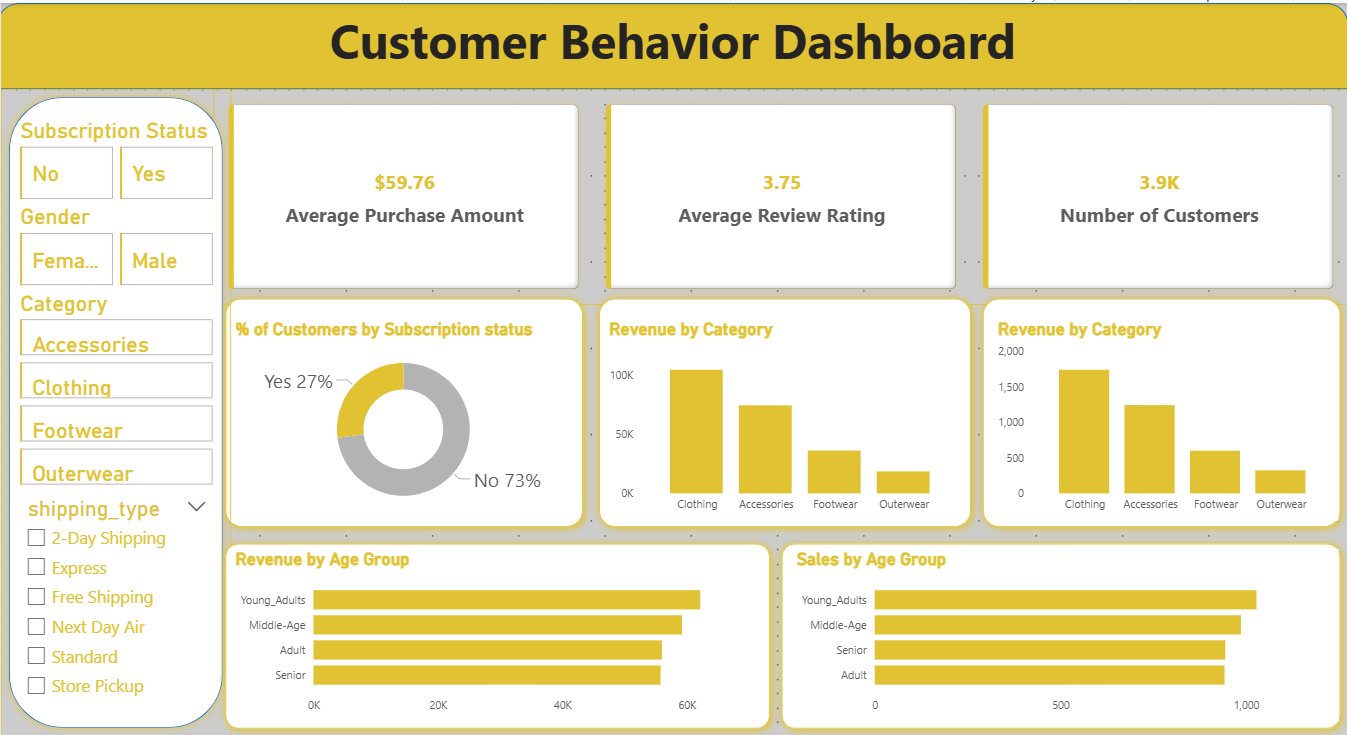

The page's visual inventory and layout, read from the dashboard file:
{"tool":"powerbi","page":{"name":"Page 1","canvas":[1500,820],"ordinal":0},"visuals":[{"type":"cardVisual","fields":{"Data":["public customer.Average Purchase Amount","public customer.Average Review Rating","public customer.Number of Customers"]},"box":[236,96,1264,240],"z":0},{"type":"shape","box":[-4,0,1504,96],"z":1000},{"type":"textbox","box":[-4,0,1504,96],"z":2000},{"type":"shape","box":[240,320,416,272],"z":3000},{"type":"donutChart","title":"% of Customers by Subscription status","fields":{"Category":["public customer.subscription_status"],"Y":["CountNonNull(public customer.customer_id)"]},"box":[256,352,384,224],"z":4000},{"type":"shape","box":[656,320,432,272],"z":5000},{"type":"shape","box":[1084,320,416,272],"z":6000},{"type":"clusteredColumnChart","title":"Revenue by Category","fields":{"Y":["Sum(public customer.purchase_amount)"],"Category":["public customer.category"]},"box":[672,352,400,224],"z":7000},{"type":"clusteredColumnChart","title":"Revenue by Category","fields":{"Y":["CountNonNull(public customer.customer_id)"],"Category":["public customer.category"]},"box":[1104,352,384,224],"z":8000},{"type":"shape","box":[0,96,256,720],"z":9000},{"type":"advancedSlicerVisual","title":"Subscription Status","fields":{"Values":["public customer.subscription_status"]},"box":[16,128,224,96],"z":10000},{"type":"advancedSlicerVisual","title":"Gender","fields":{"Values":["public customer.gender"]},"box":[16,224,224,96],"z":11000},{"type":"advancedSlicerVisual","title":"Category","fields":{"Values":["public customer.category"]},"box":[16,320,224,224],"z":12000},{"type":"slicer","title":"Shopping Type","fields":{"Values":["public customer.shipping_type"]},"box":[16,544,224,272],"z":13000},{"type":"shape","box":[240,592,624,224],"z":14000},{"type":"clusteredBarChart","title":"Revenue by Age Group","fields":{"Category":["public customer.age_group"],"Y":["Sum(public customer.purchase_amount)"]},"box":[256,608,592,192],"z":15000},{"type":"shape","box":[860,592,640,224],"z":16000},{"type":"clusteredBarChart","title":"Sales by Age Group","fields":{"Category":["public customer.age_group"],"Y":["CountNonNull(public customer.customer_id)"]},"box":[880,608,608,192],"z":17000}]}

Visuals, with their boxes in screenshot pixels (x1, y1, x2, y2), scaled from the page's 1500x820 canvas onto the 1347x735 screenshot:
cardVisual - public customer.Average Purchase Amount x public customer.Average Review Rating: [left=212, top=86, right=1346, bottom=301]
shape: [left=0, top=0, right=1346, bottom=86]
textbox: [left=0, top=0, right=1346, bottom=86]
shape: [left=216, top=287, right=589, bottom=531]
"% of Customers by Subscription status" donutChart: [left=230, top=316, right=575, bottom=516]
shape: [left=589, top=287, right=977, bottom=531]
shape: [left=973, top=287, right=1346, bottom=531]
"Revenue by Category" clusteredColumnChart: [left=603, top=316, right=963, bottom=516]
"Revenue by Category" clusteredColumnChart: [left=991, top=316, right=1336, bottom=516]
shape: [left=0, top=86, right=230, bottom=731]
"Subscription Status" advancedSlicerVisual: [left=14, top=115, right=216, bottom=201]
"Gender" advancedSlicerVisual: [left=14, top=201, right=216, bottom=287]
"Category" advancedSlicerVisual: [left=14, top=287, right=216, bottom=488]
"Shopping Type" slicer: [left=14, top=488, right=216, bottom=731]
shape: [left=216, top=531, right=776, bottom=731]
"Revenue by Age Group" clusteredBarChart: [left=230, top=545, right=762, bottom=717]
shape: [left=772, top=531, right=1346, bottom=731]
"Sales by Age Group" clusteredBarChart: [left=790, top=545, right=1336, bottom=717]
